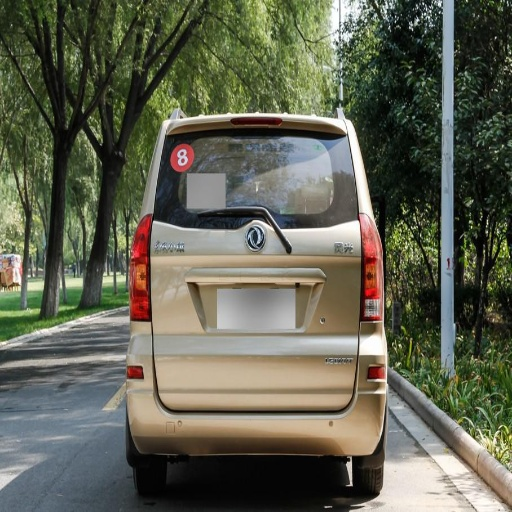back_bumper: (127, 375, 388, 459)
trunk: (144, 221, 362, 407)
